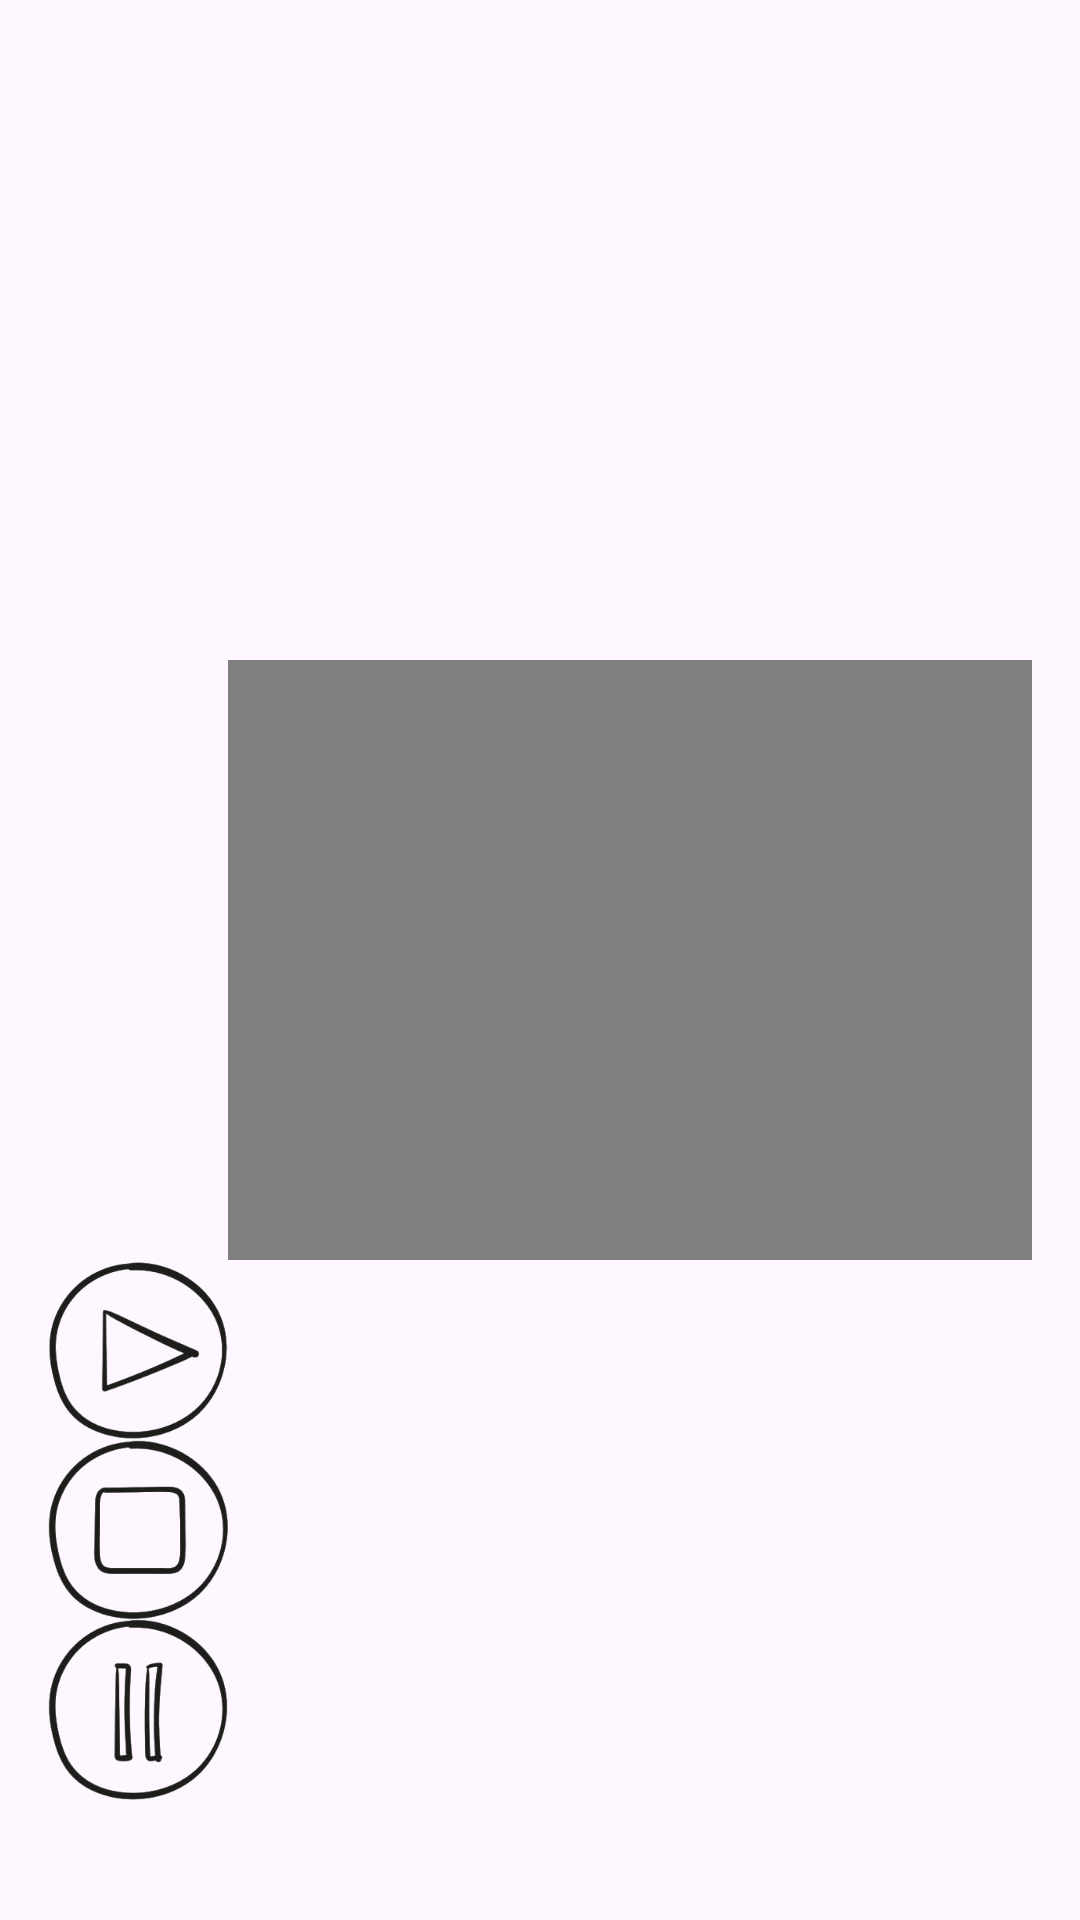

Icons on this 1080*1920 Android screen, each with the point to tap as point (x, y):
pause: point (138, 1710)
play: point (138, 1350)
stop: point (138, 1530)
